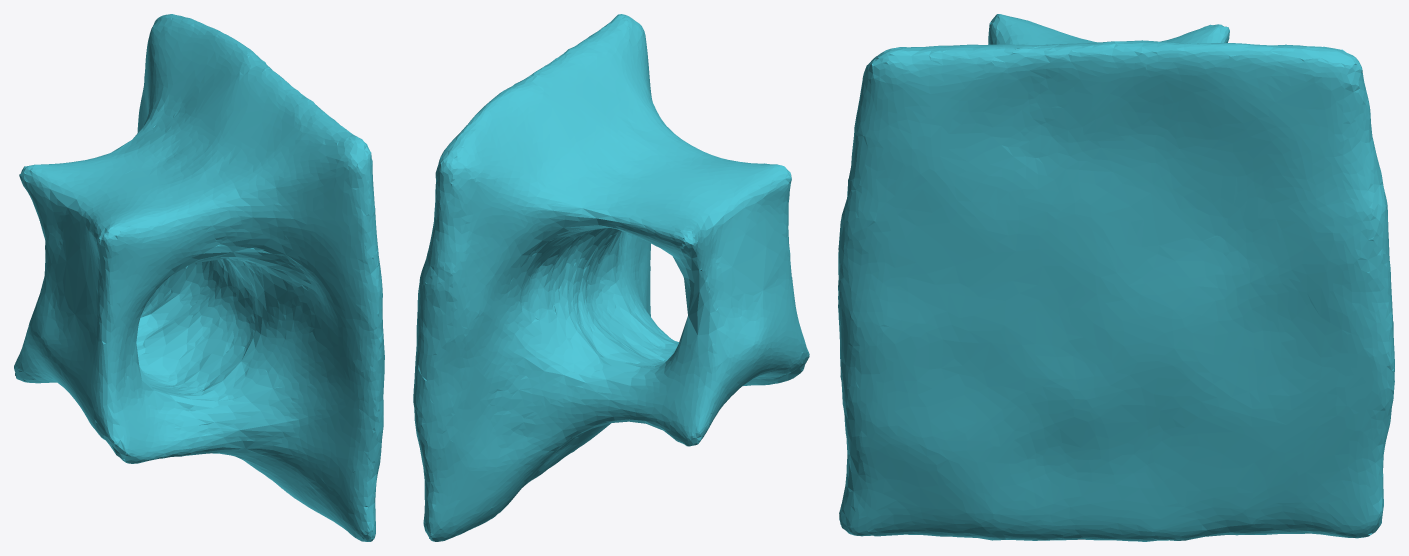
3 renders of one model, left to right at view 1: azimuth 30°, elevation 25°; view 2: azimuth 150°, elevation 25°; view 3: azimuth 270°, elevation 25°, orthographic. The views are drawn at different scales.
Visible parts, largest first — view 1: Renderer Node; view 2: Renderer Node; view 3: Renderer Node.
Part boxes in pixels (bbox=[...]): Renderer Node: bbox=[14, 14, 384, 541]; Renderer Node: bbox=[413, 14, 809, 541]; Renderer Node: bbox=[838, 14, 1394, 541].
Size of the model in its own units: 0.396 by 0.6273 by 0.6317.
Materials: 1 (1 with a texture image).
